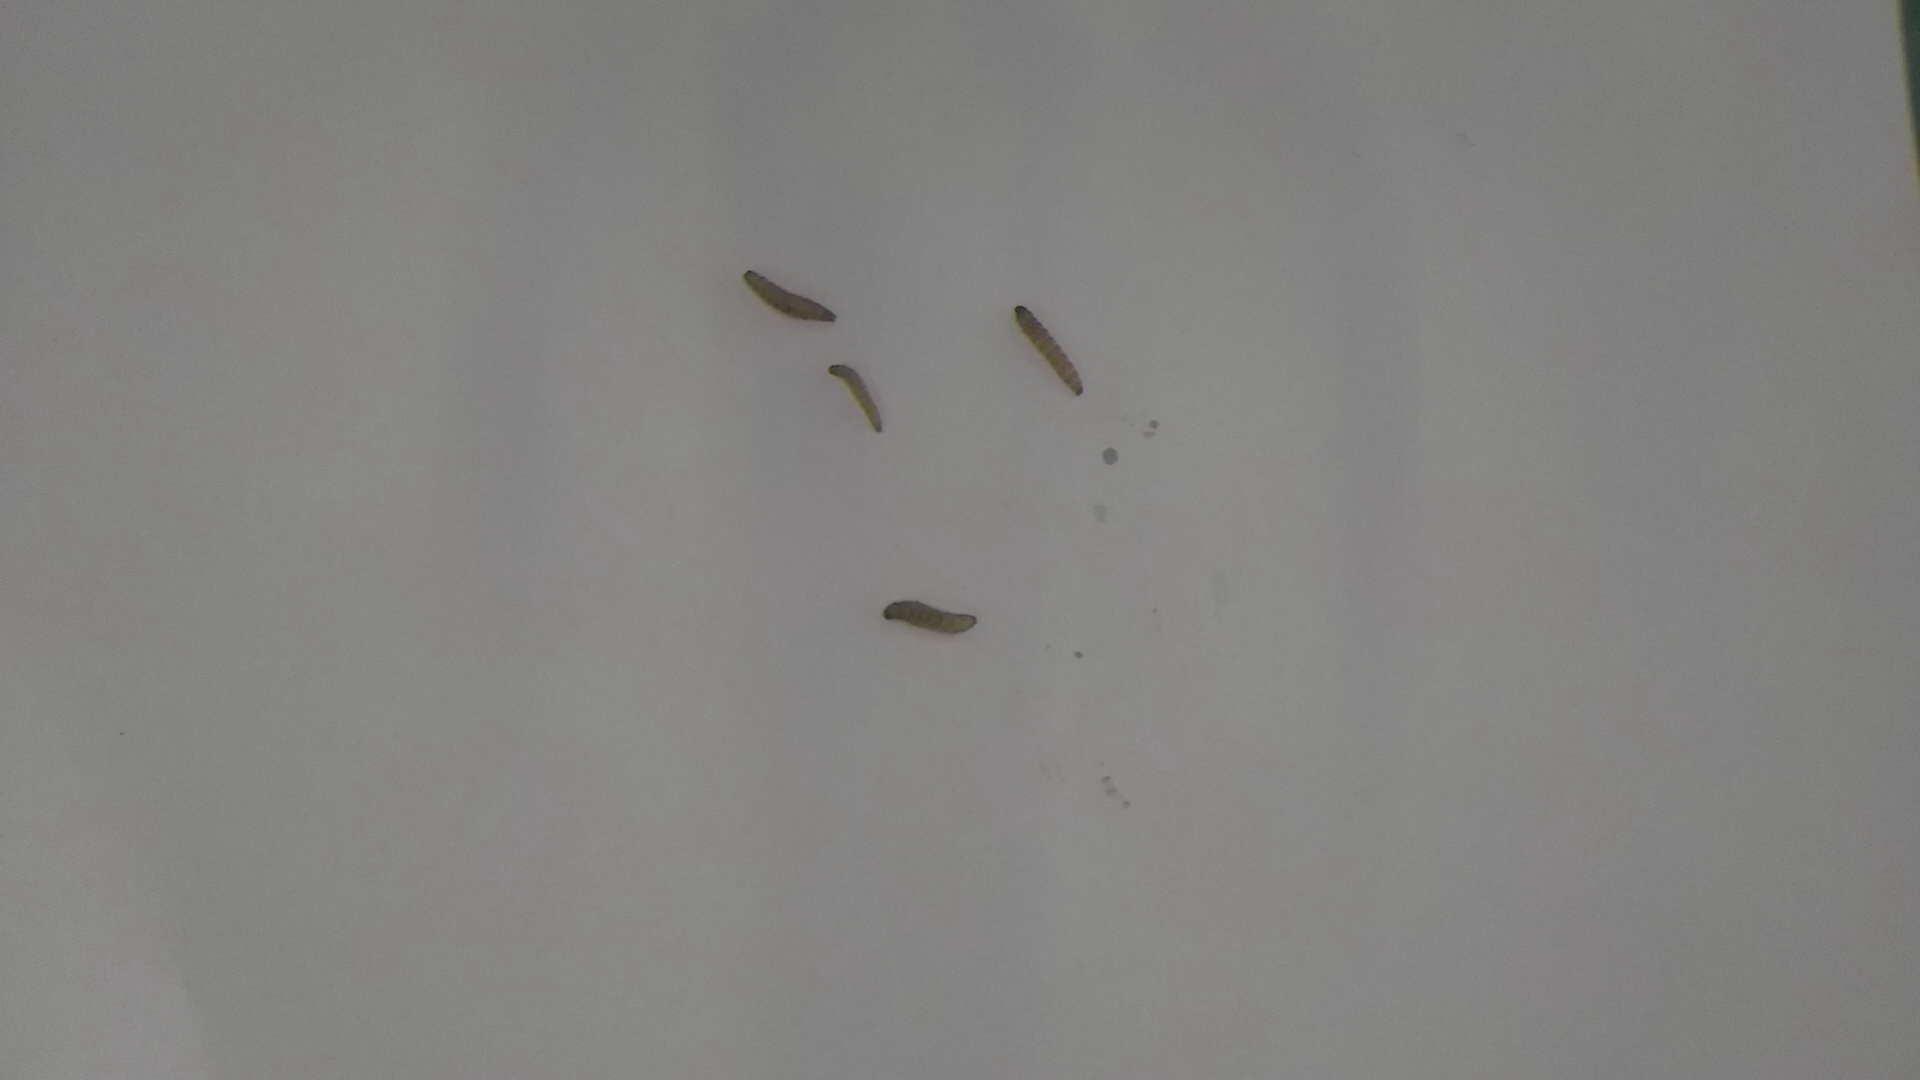efsb: (1006, 295, 1089, 406), (736, 266, 847, 328), (823, 359, 887, 440), (878, 591, 992, 637)
